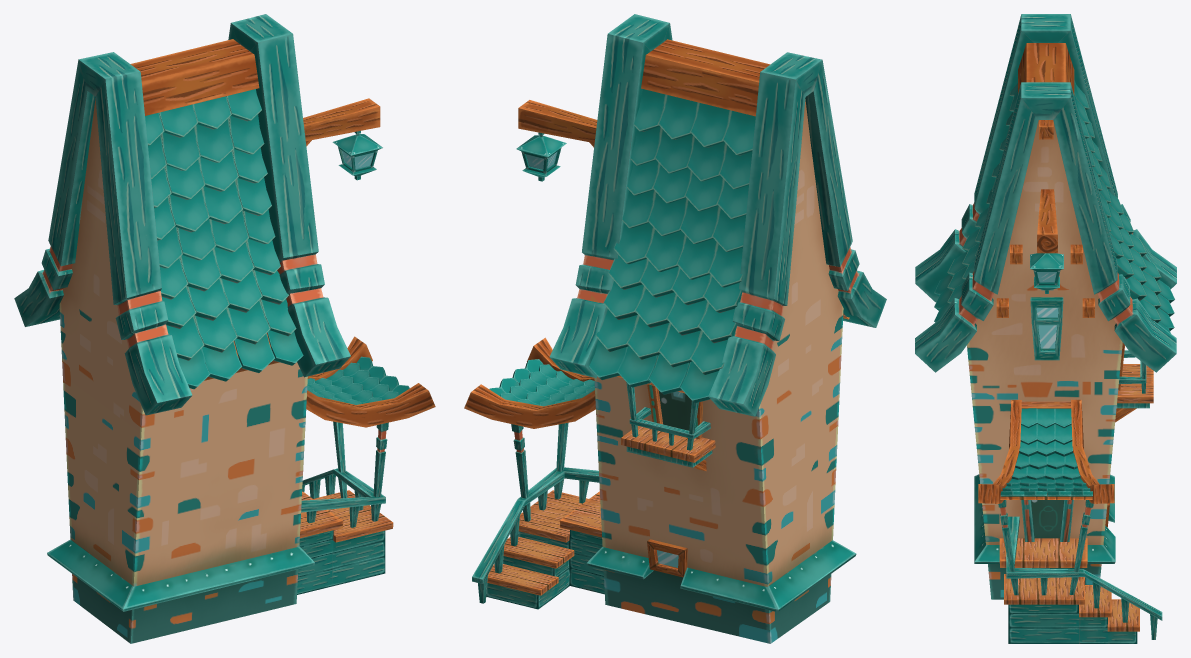
File: house.glb
The picture shows the model from 3 angles, left to right: view 1: azimuth 30°, elevation 25°; view 2: azimuth 150°, elevation 25°; view 3: azimuth 270°, elevation 25°; orthographic projection. The views are drawn at different scales.
Visible parts, largest first — view 1: polySurface1, polySurface159, polySurface8, polySurface35, polySurface7, polySurface12, polySurface20, polySurface29, polySurface15, polySurface10, polySurface25, polySurface147 (+35 smaller); view 2: polySurface1, polySurface159, polySurface8, polySurface7, polySurface35, polySurface12, polySurface158, polySurface5, polySurface29, polySurface15, polySurface10, polySurface13 (+43 smaller); view 3: polySurface1, polySurface8, polySurface159, polySurface12, polySurface11, polySurface7, polySurface35, polySurface10, polySurface15, polySurface158, polySurface20, polySurface30 (+9 smaller).
Boxes of the visible parts, x1=… form: polySurface1: x1=59, y1=98, x2=307, y2=643; polySurface159: x1=14, y1=52, x2=192, y2=415; polySurface8: x1=228, y1=14, x2=350, y2=377; polySurface35: x1=47, y1=539, x2=314, y2=611; polySurface7: x1=130, y1=39, x2=259, y2=115; polySurface12: x1=297, y1=530, x2=385, y2=594; polySurface20: x1=306, y1=383, x2=435, y2=427; polySurface29: x1=303, y1=98, x2=380, y2=141; polySurface15: x1=301, y1=468, x2=385, y2=512; polySurface10: x1=313, y1=490, x2=393, y2=542; polySurface25: x1=332, y1=134, x2=382, y2=176; polySurface147: x1=161, y1=126, x2=200, y2=170; polySurface1: x1=594, y1=99, x2=843, y2=643; polySurface159: x1=708, y1=52, x2=886, y2=416; polySurface8: x1=549, y1=14, x2=672, y2=378; polySurface7: x1=641, y1=39, x2=770, y2=116; polySurface35: x1=586, y1=540, x2=856, y2=612; polySurface12: x1=486, y1=530, x2=604, y2=609; polySurface158: x1=464, y1=384, x2=595, y2=428; polySurface5: x1=621, y1=426, x2=715, y2=467; polySurface29: x1=518, y1=100, x2=597, y2=142; polySurface15: x1=472, y1=467, x2=599, y2=583; polySurface10: x1=518, y1=490, x2=588, y2=542; polySurface13: x1=503, y1=536, x2=574, y2=568; polySurface1: x1=967, y1=120, x2=1122, y2=599; polySurface8: x1=915, y1=82, x2=1176, y2=372; polySurface159: x1=915, y1=14, x2=1176, y2=302; polySurface12: x1=1008, y1=568, x2=1137, y2=643; polySurface11: x1=999, y1=538, x2=1087, y2=567; polySurface7: x1=1018, y1=43, x2=1074, y2=95; polySurface35: x1=974, y1=474, x2=1115, y2=563; polySurface10: x1=1004, y1=574, x2=1084, y2=604; polySurface15: x1=1006, y1=516, x2=1162, y2=620; polySurface158: x1=1071, y1=399, x2=1114, y2=503; polySurface20: x1=978, y1=400, x2=1021, y2=503; polySurface30: x1=1030, y1=297, x2=1063, y2=360.
Size of the model in its own units: 8.07 by 13.57 by 6.34.
Materials: 1 (1 with a texture image).
